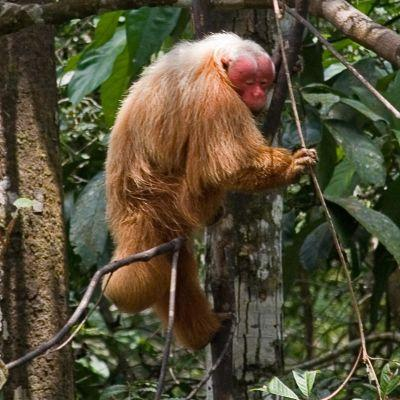monkey: (105, 32, 275, 324)
